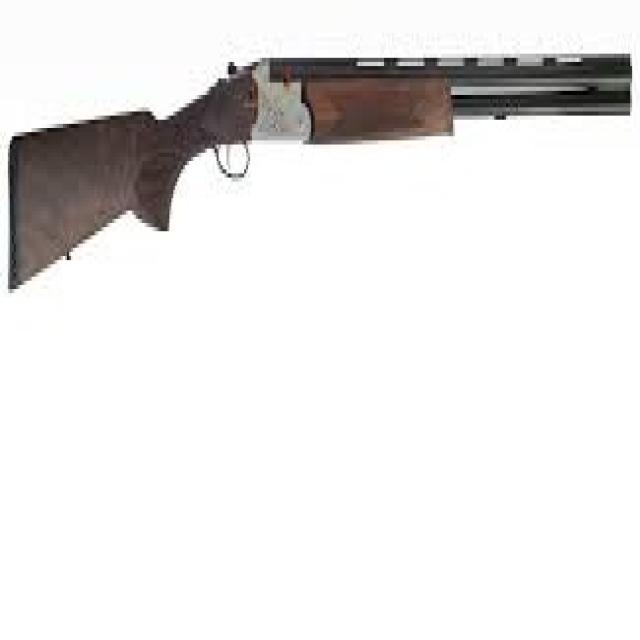rifle: (4, 28, 636, 311)
